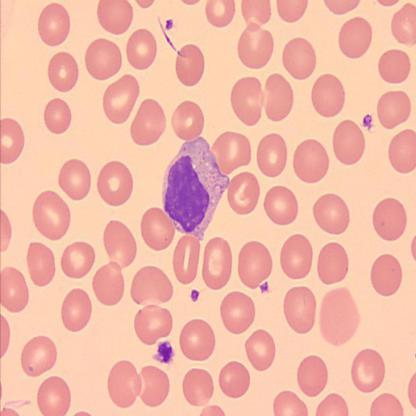Atypical lymphocyte: (159, 135, 232, 244)
